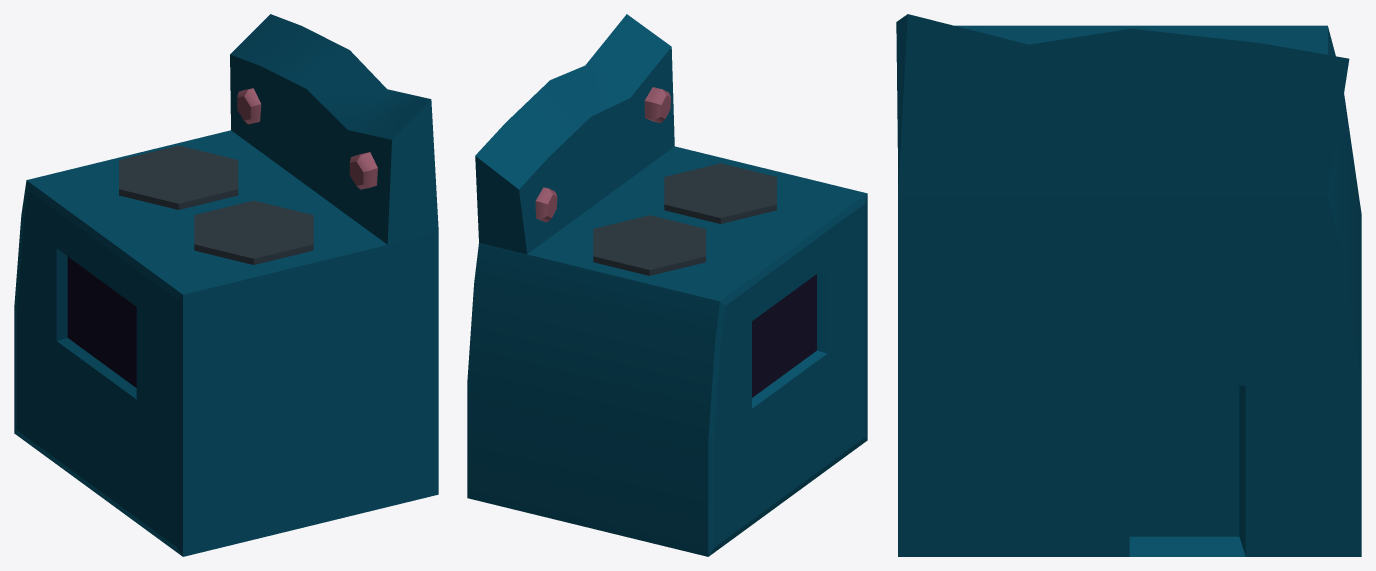
Rendered from Oven.fbx.
3 renders of one model, left to right at view 1: azimuth 30°, elevation 25°; view 2: azimuth 150°, elevation 25°; view 3: azimuth 270°, elevation 25°, orthographic. The views are drawn at different scales.
Parts seen in each view (by area): view 1: polySurface1, pCylinder12, pCylinder13, polySurface2, pCylinder15, pCylinder14; view 2: polySurface1, pCylinder12, pCylinder13, polySurface2, pCylinder15, pCylinder14; view 3: polySurface1.
Boxes of the visible parts, x1,y1,x2,y2 form: polySurface1: (14,14,438,556); pCylinder12: (119,145,238,209); pCylinder13: (194,200,313,264); polySurface2: (67,256,136,387); pCylinder15: (349,152,377,189); pCylinder14: (237,88,261,124); polySurface1: (467,14,867,556); pCylinder12: (593,215,705,275); pCylinder13: (664,163,776,223); polySurface2: (752,274,816,397); pCylinder15: (644,87,670,123); pCylinder14: (535,187,557,222); polySurface1: (896,14,1361,556).
Bounding box in the file's own units: 78.09 × 114 × 89.
